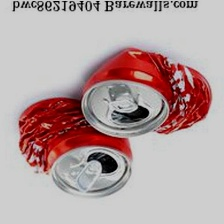can: (77, 44, 218, 145), (13, 92, 138, 202)
